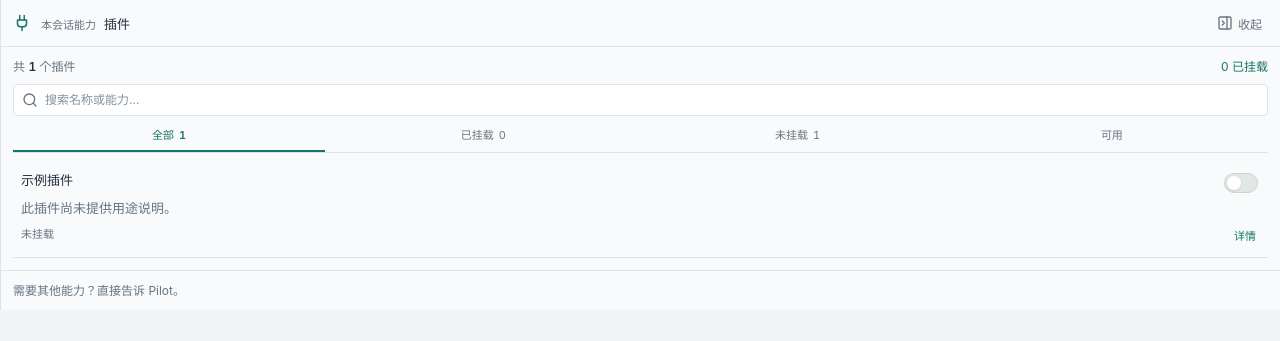
it: the session plugin panel › keeps the row where the Host left it and shows the refused switch's own words
Step 1. Click the switch with class "session-plugin-switch" → (1241, 183), box [1222,171,1260,195]
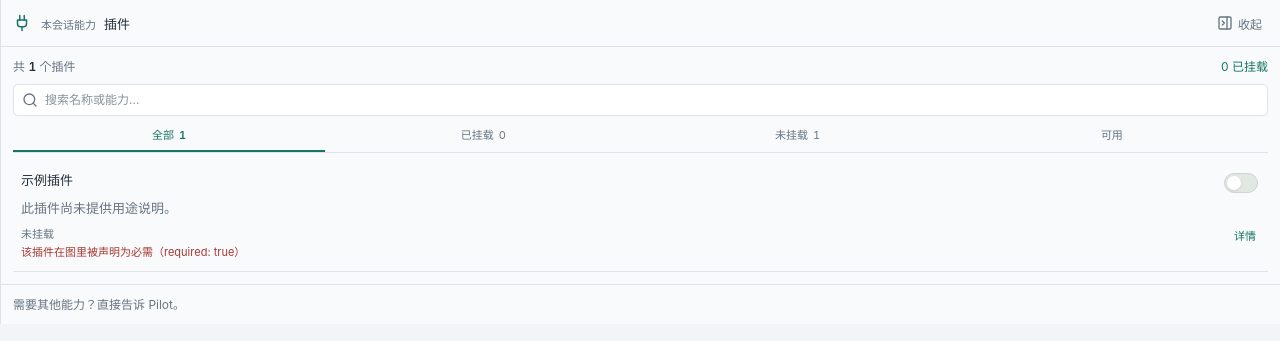
Expected: the text "未挂载" is shown, [21,226,54,242]
Result: the text "该插件在图里被声明为必需（required: true）" is shown at [21,245,245,259]
